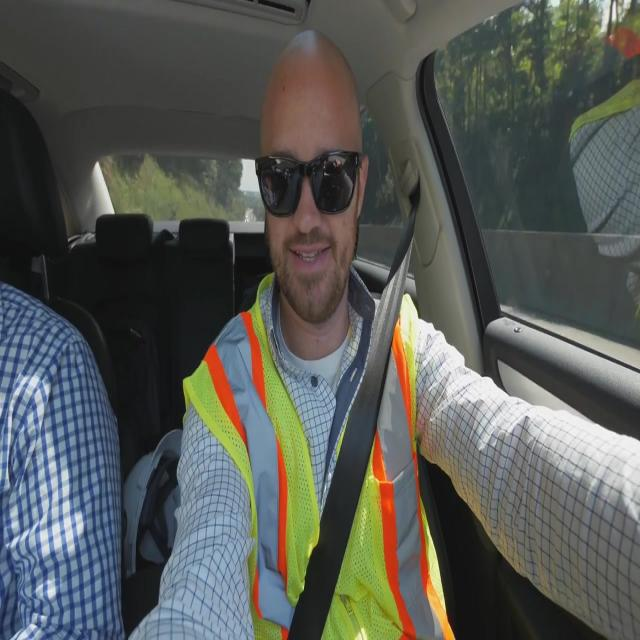Reflective-Jacket: (185, 290, 457, 640)
